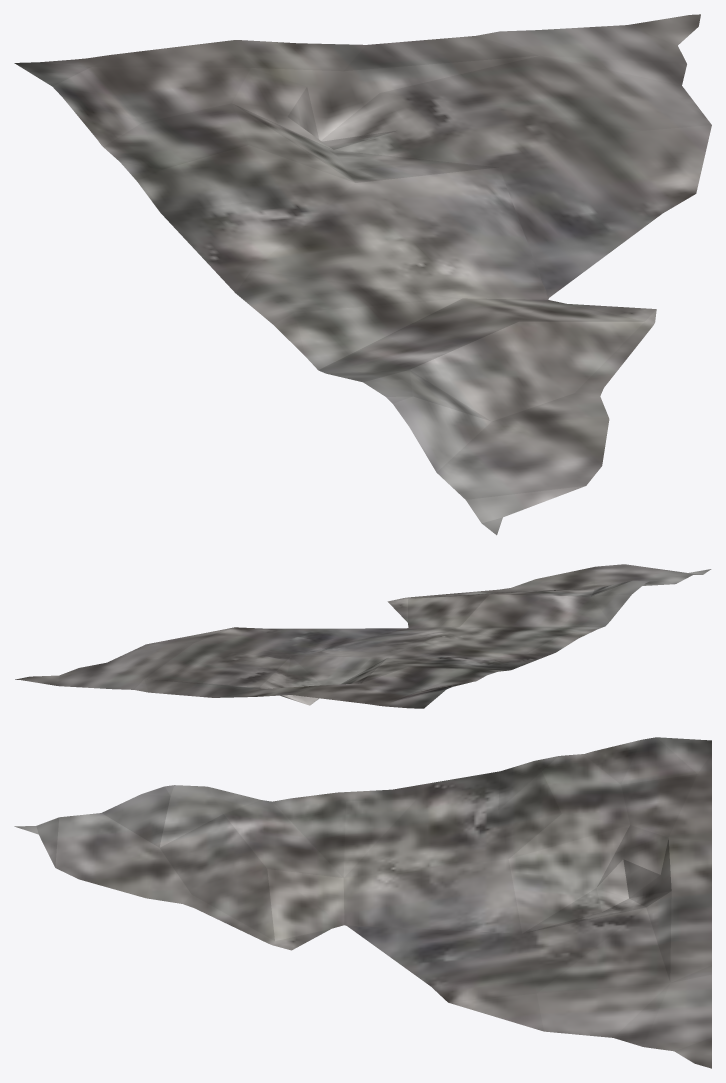
The picture shows the model from 3 angles, top to bottom: view 1: azimuth 30°, elevation 25°; view 2: azimuth 150°, elevation 25°; view 3: azimuth 270°, elevation 25°; orthographic projection. The views are drawn at different scales.
Size of the model in its own units: 0.5031 by 0.0864 by 0.6126.
Materials: 1 (1 with a texture image).
